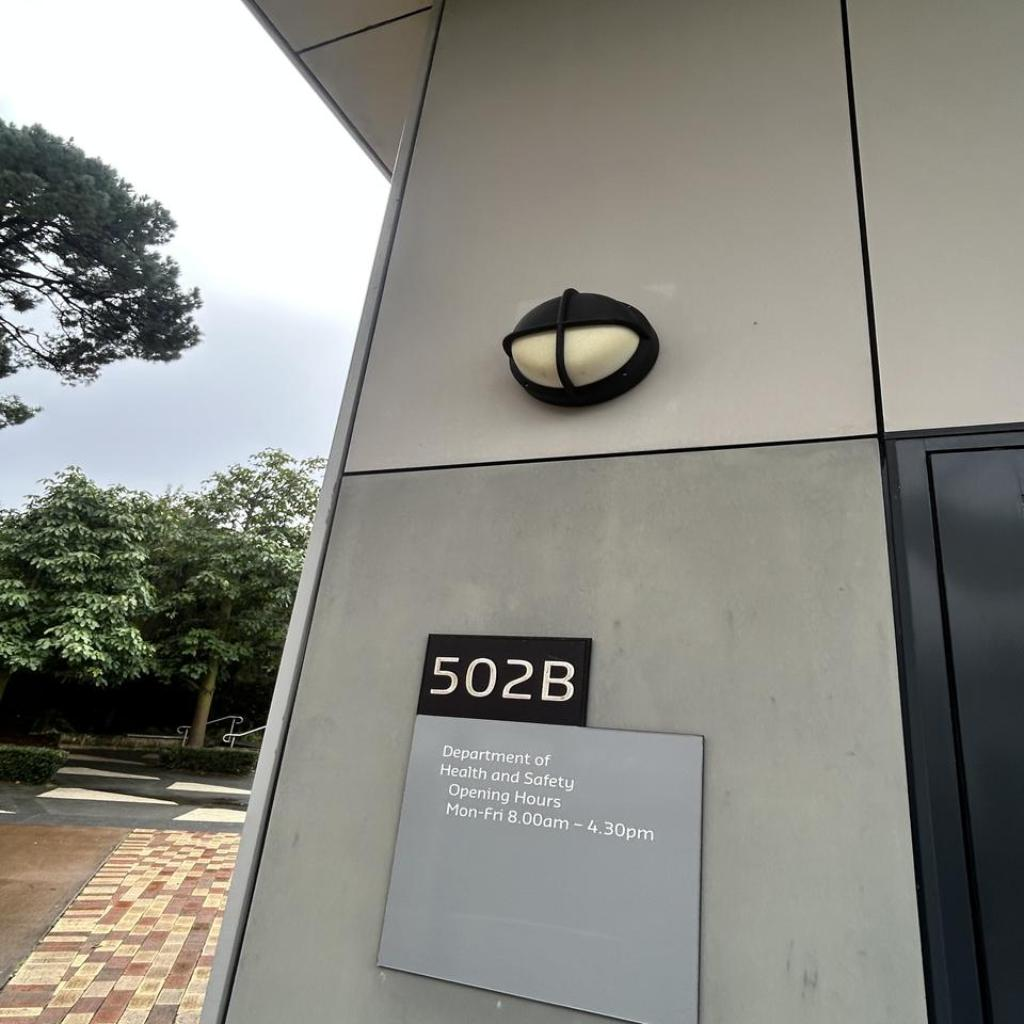BuildingCodes: (427, 654, 577, 706)
